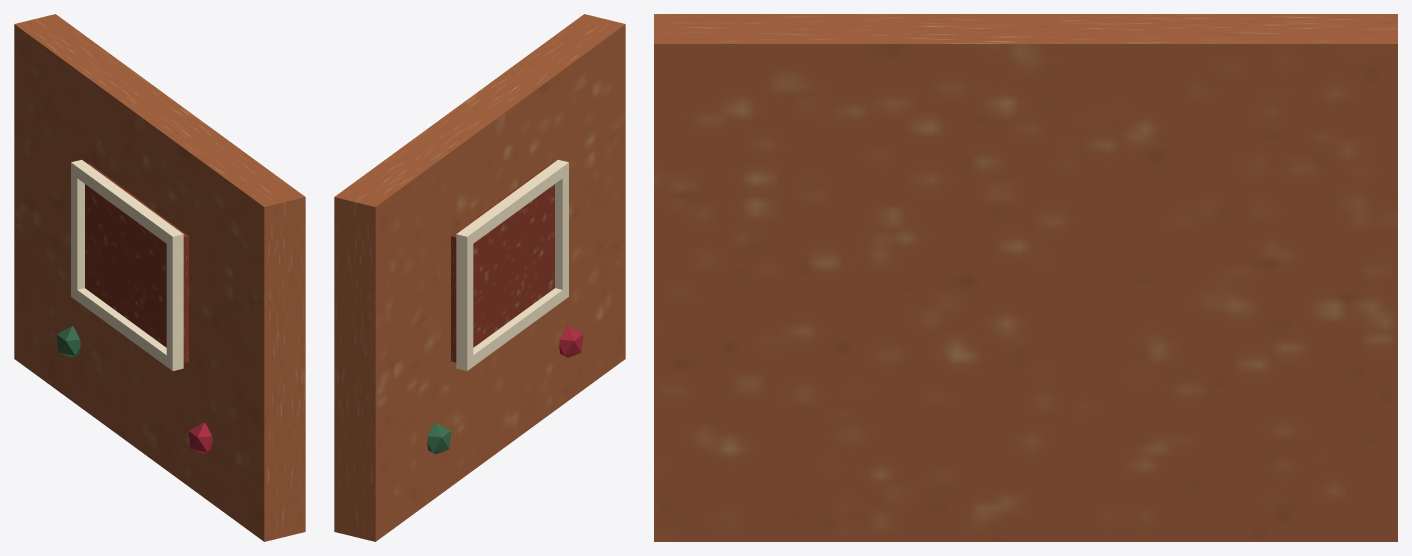
The model's file is gingerbread_house_piece_side_left.glb.
3 renders of one model, left to right at view 1: azimuth 30°, elevation 25°; view 2: azimuth 150°, elevation 25°; view 3: azimuth 270°, elevation 25°, orthographic. The views are drawn at different scales.
Parts seen in each view (by area): view 1: side_left; view 2: side_left; view 3: side_left.
Part boxes in pixels (x1,y1,x2,y2): side_left: (14,14,305,541); side_left: (334,14,625,541); side_left: (654,14,1397,541).
Size of the model in its own units: 0.027 by 0.147 by 0.199.
Materials: 5 (2 with a texture image).
